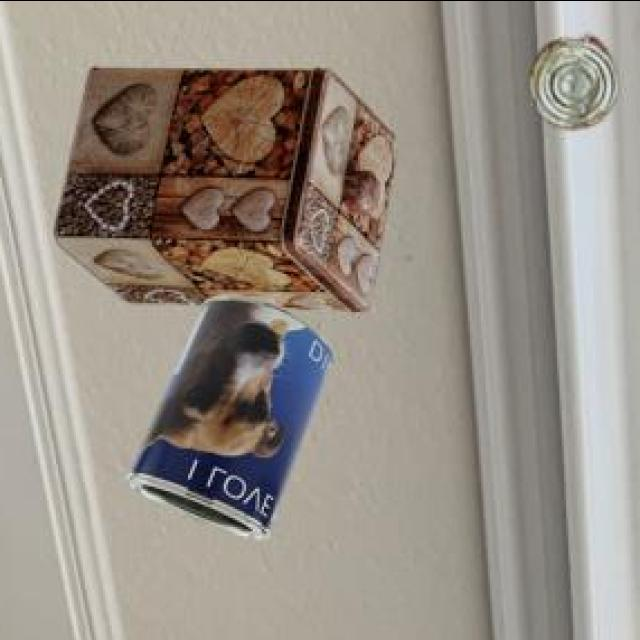logam: (57, 70, 399, 314), (129, 297, 337, 543), (534, 41, 621, 131)
